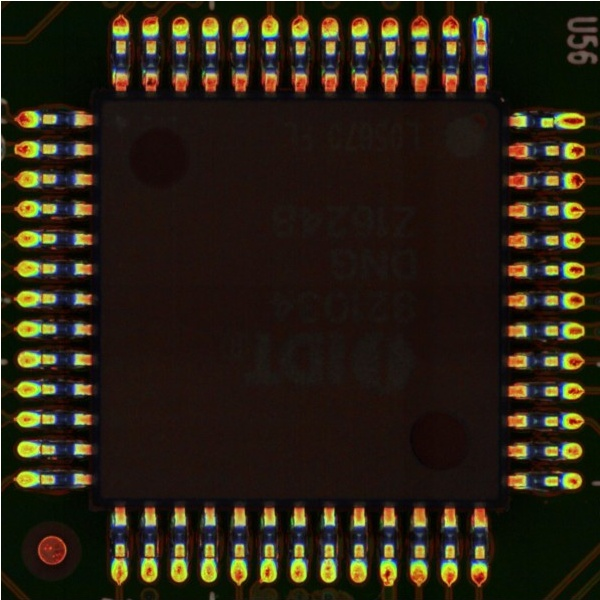Bad_podu: (475, 29, 485, 45)
